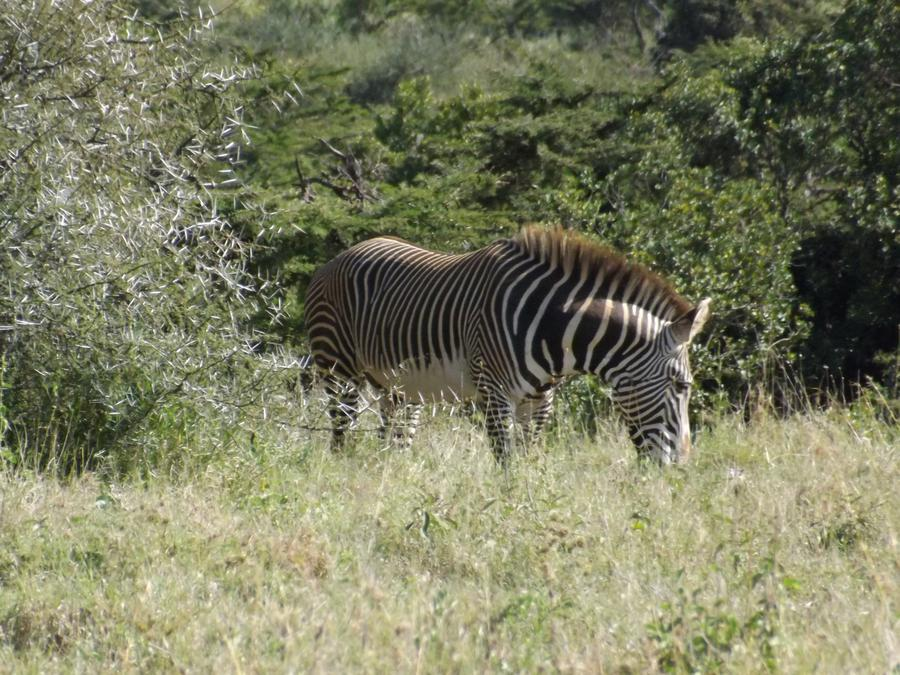zebra_grevys: (310, 225, 535, 410)
